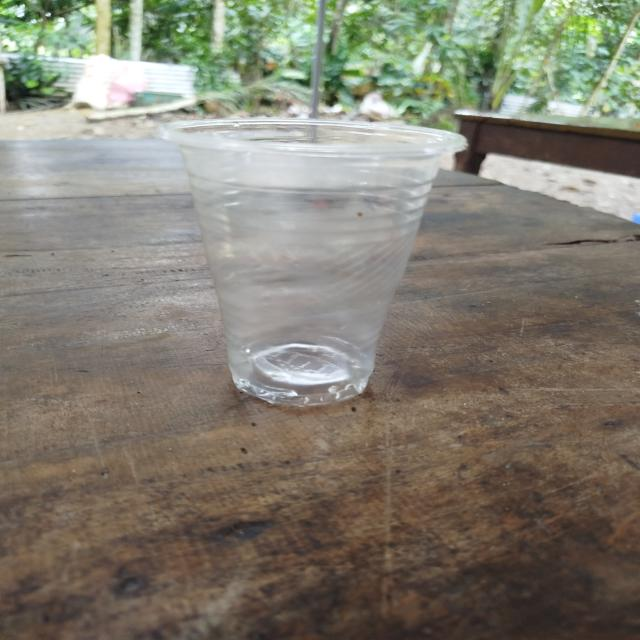plastic: (162, 100, 474, 422)
